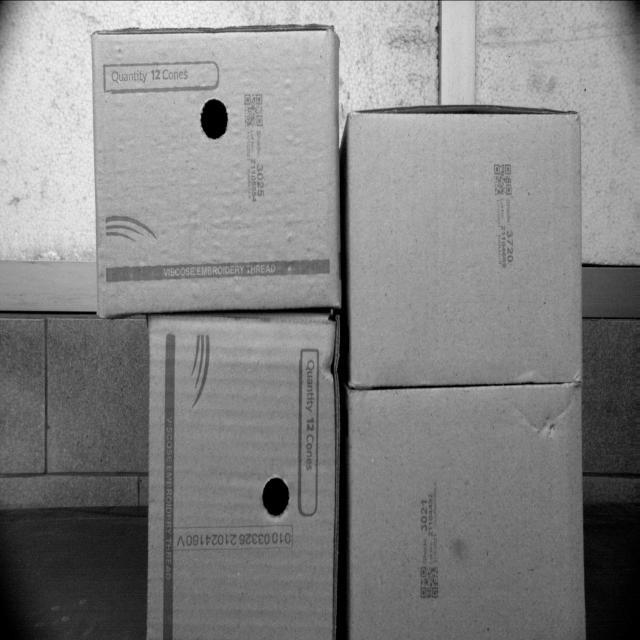box: (93, 25, 336, 314), (348, 106, 580, 384), (149, 314, 342, 640), (350, 386, 588, 639)
